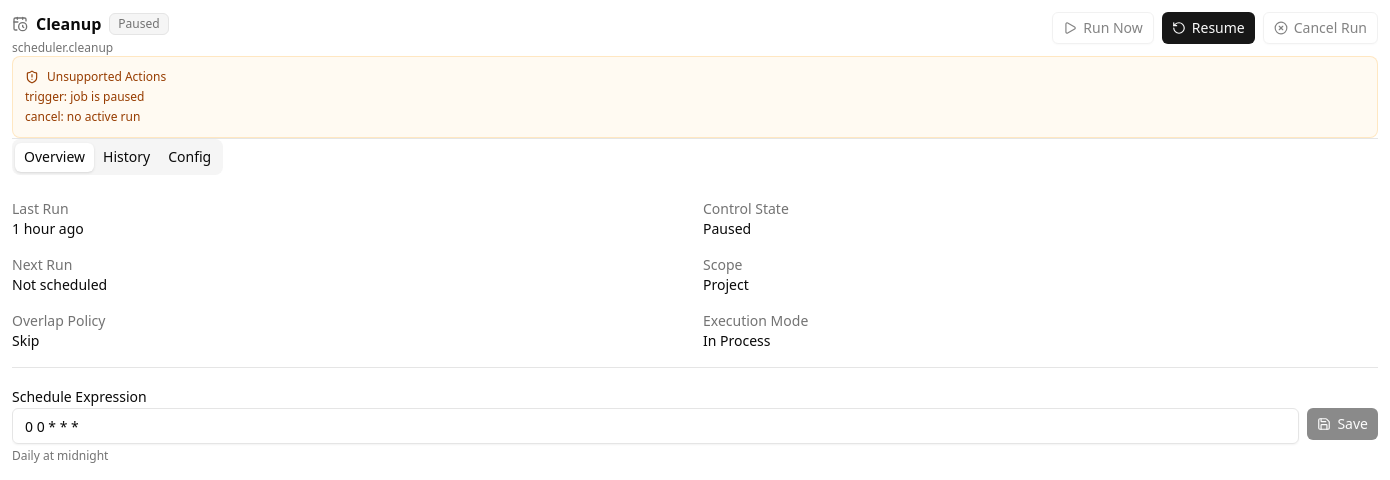
SchedulerJobDetail › renders paused jobs truthfully and allows resume or cleanup reset
Check: the text "Paused" is shown 2 times, box [109,13,169,35]; [703,219,751,238]
Check: the button titled "job is paused" is disabled, box [1052,12,1154,44]
Click the button "Resume" at [1208, 28], box [1162,12,1255,44]
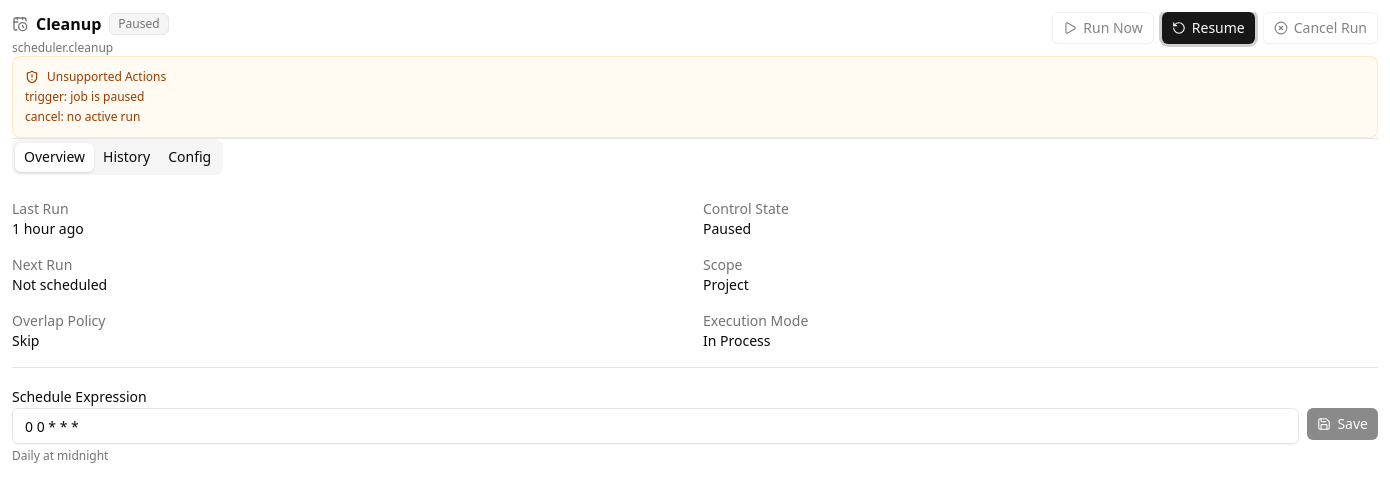
Click the tab "History" at [127, 157], box [94,142,159,172]
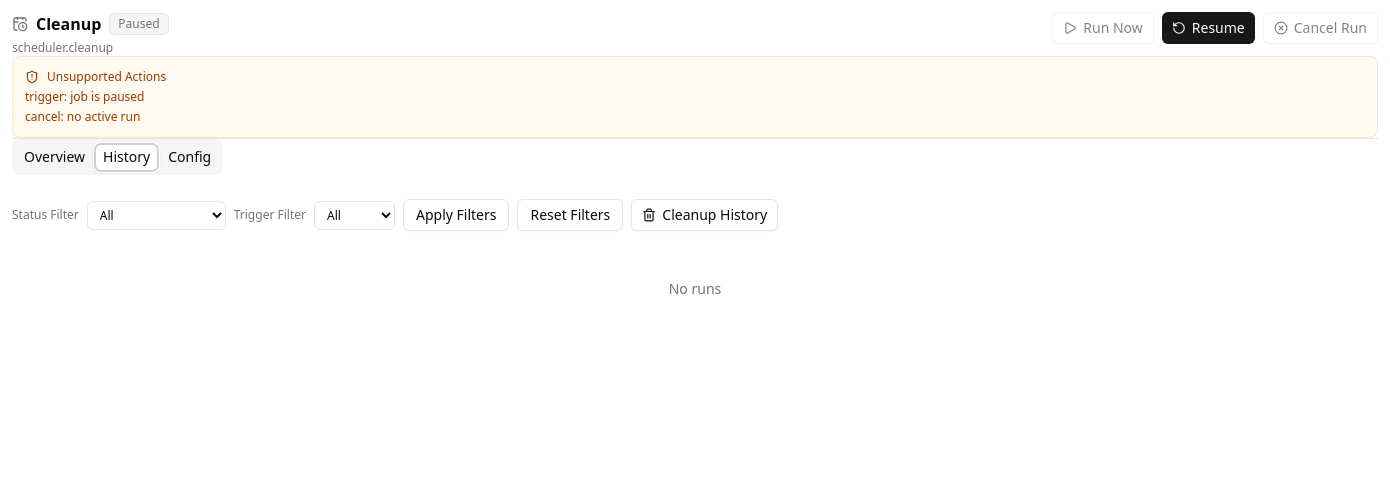
Click the button "Reset Filters" at [570, 215], box [518,199,623,231]
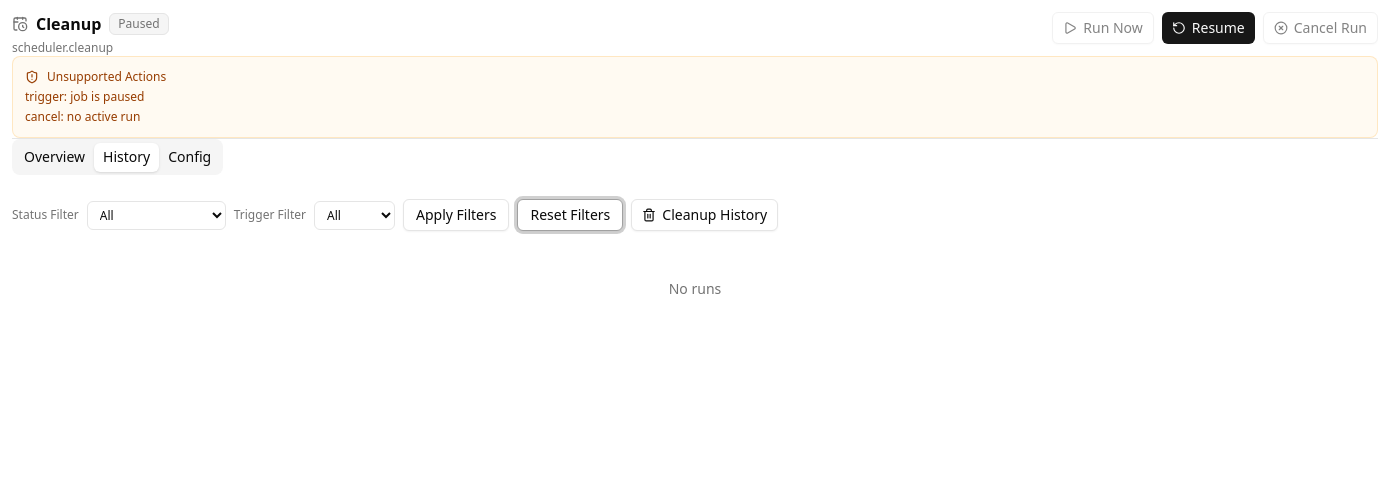
Click the tab "Config" at [190, 157], box [159,142,220,172]
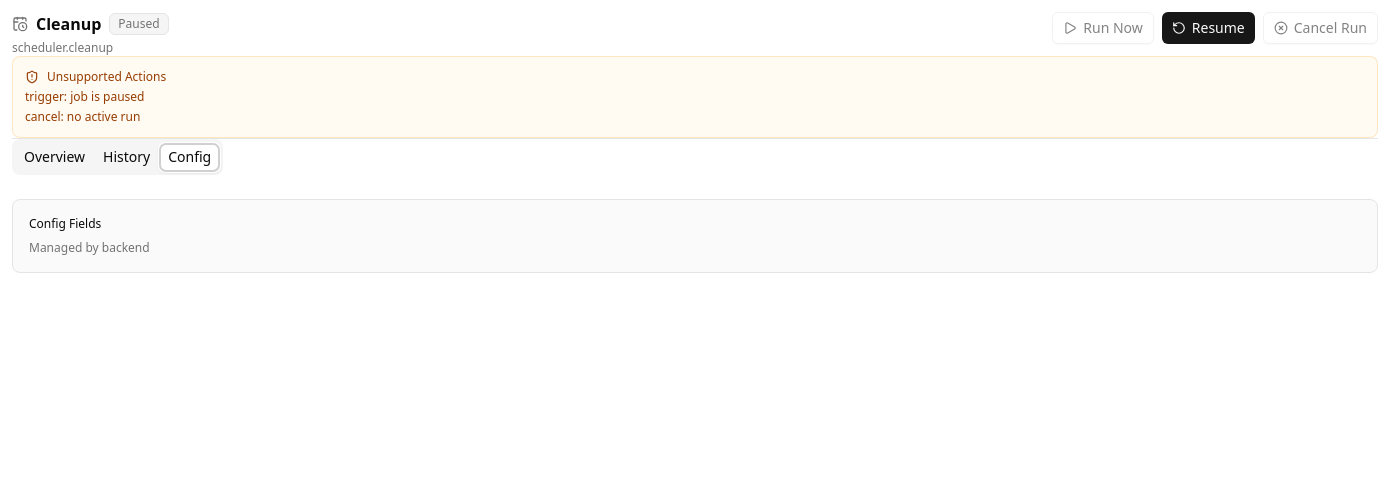
Check: the text "Managed by backend" is shown, box [29,239,150,256]
